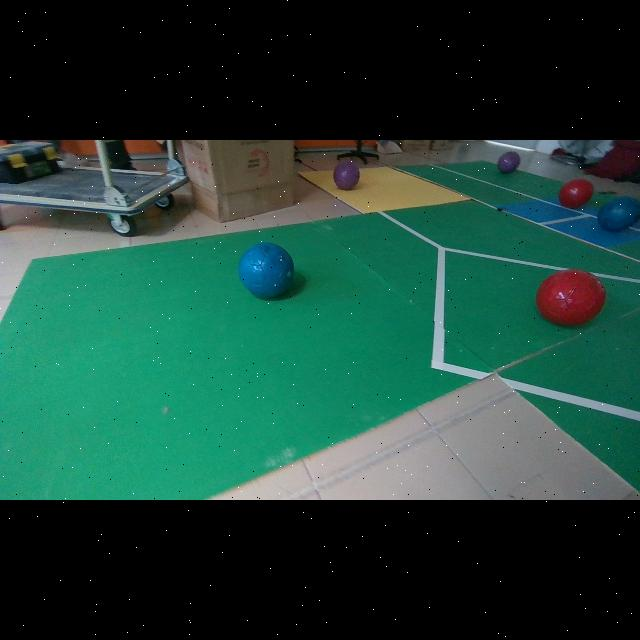B: (238, 242, 294, 299), (597, 197, 640, 231)
P: (333, 162, 359, 190), (498, 152, 520, 174)
R: (535, 269, 606, 325), (559, 179, 594, 208)
